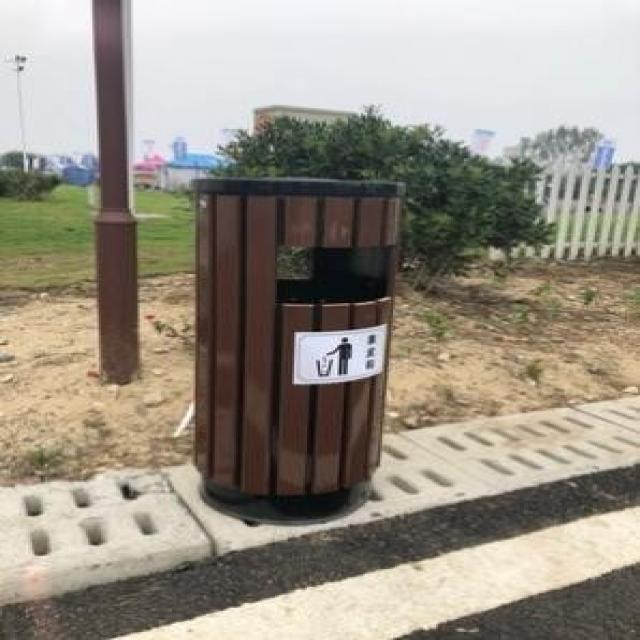ash bin: (182, 169, 416, 526)
pole: (80, 0, 152, 379)
